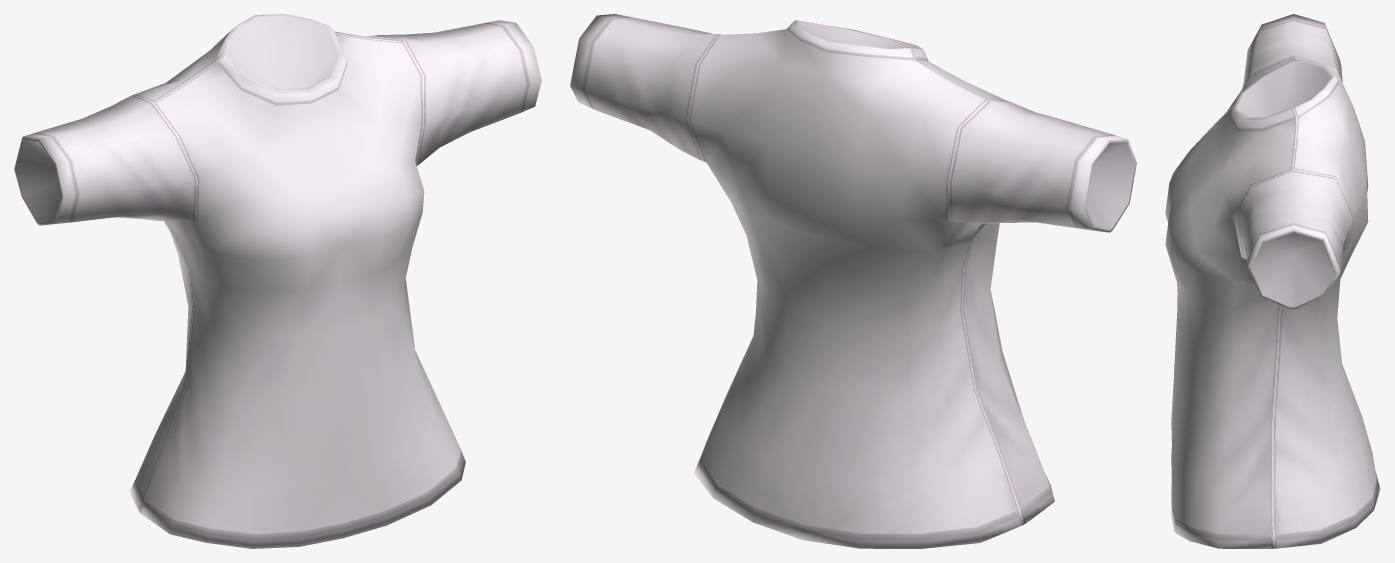
The model's file is feminina.glb.
3 views of the same model, side by side, from view 1: azimuth 30°, elevation 25°; view 2: azimuth 150°, elevation 25°; view 3: azimuth 270°, elevation 25° (orthographic). The views are drawn at different scales.
Visible parts, largest first — view 1: girl_top_Natal.3; view 2: girl_top_Natal.3; view 3: girl_top_Natal.3.
Boxes of the visible parts, x1,y1,x2,y2 form: girl_top_Natal.3: (14,14,541,548); girl_top_Natal.3: (570,14,1136,548); girl_top_Natal.3: (1165,14,1380,548).
Bounding box in the file's own units: 0.4777 × 0.436 × 0.2.
Materials: 1 (1 with a texture image).
